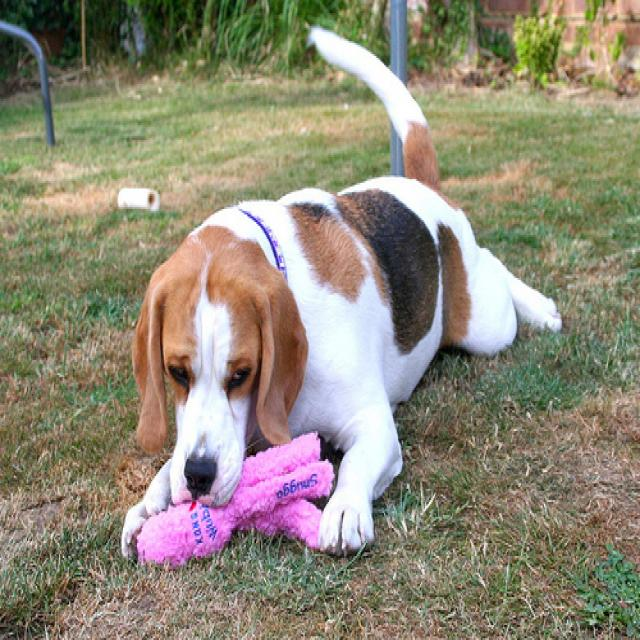dog-beagle: (116, 9, 572, 575)
